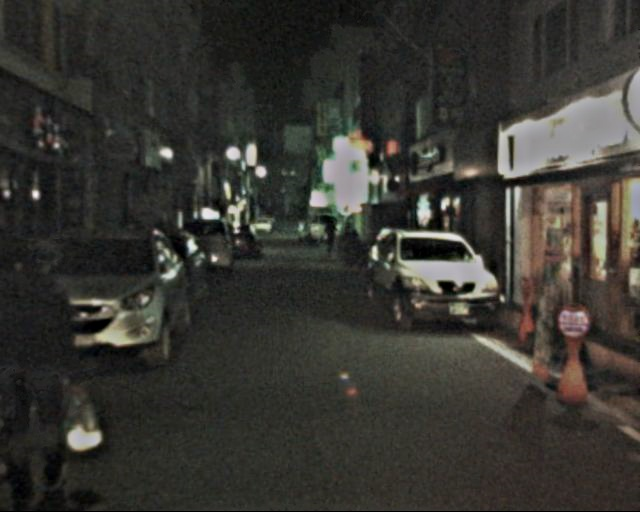person: (324, 216, 341, 256)
